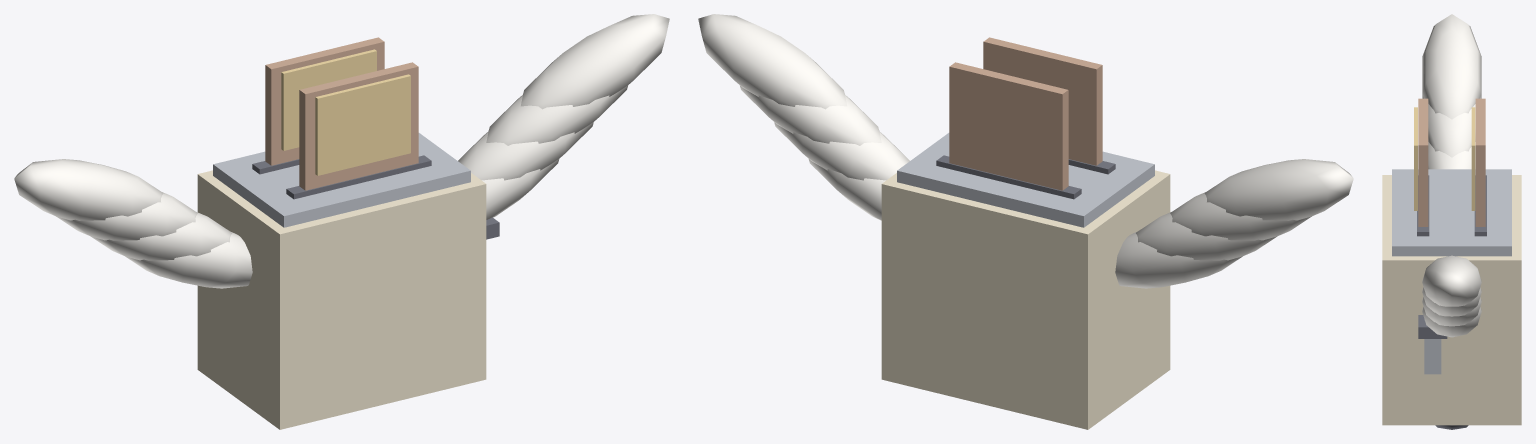
The model's file is 23_tostadora_alas.glb.
3 views of the same model, side by side, from view 1: azimuth 30°, elevation 25°; view 2: azimuth 150°, elevation 25°; view 3: azimuth 270°, elevation 25° (orthographic). The views are drawn at different scales.
Visible parts, largest first — view 1: body (×3), toast (×2), wingRight, wingLeft; view 2: body (×3), toast, wingRight, wingLeft; view 3: body (×3), wingLeft, wingRight, toast (×2).
Boxes of the visible parts, left/top/right/bottom form: body (×3): left=197, top=133, right=499, bottom=429; toast (×2): left=265, top=37, right=418, bottom=190; wingRight: left=458, top=14, right=669, bottom=219; wingLeft: left=14, top=159, right=252, bottom=288; body (×3): left=881, top=133, right=1170, bottom=429; toast: left=949, top=37, right=1102, bottom=190; wingRight: left=698, top=14, right=909, bottom=220; wingLeft: left=1115, top=159, right=1353, bottom=288; body (×3): left=1382, top=169, right=1521, bottom=429; wingLeft: left=1422, top=14, right=1481, bottom=169; wingRight: left=1422, top=255, right=1481, bottom=337; toast (×2): left=1414, top=98, right=1485, bottom=226.
Size of the model in its own units: 1.33 by 0.639 by 0.29.
